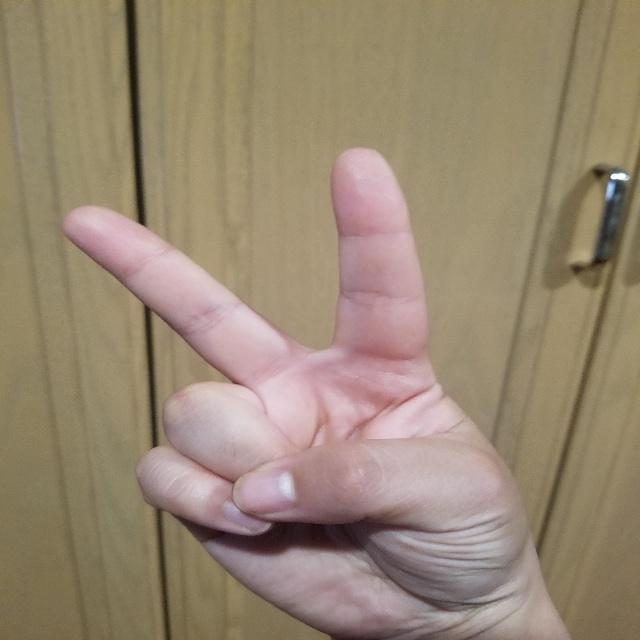V: (52, 141, 550, 639)
